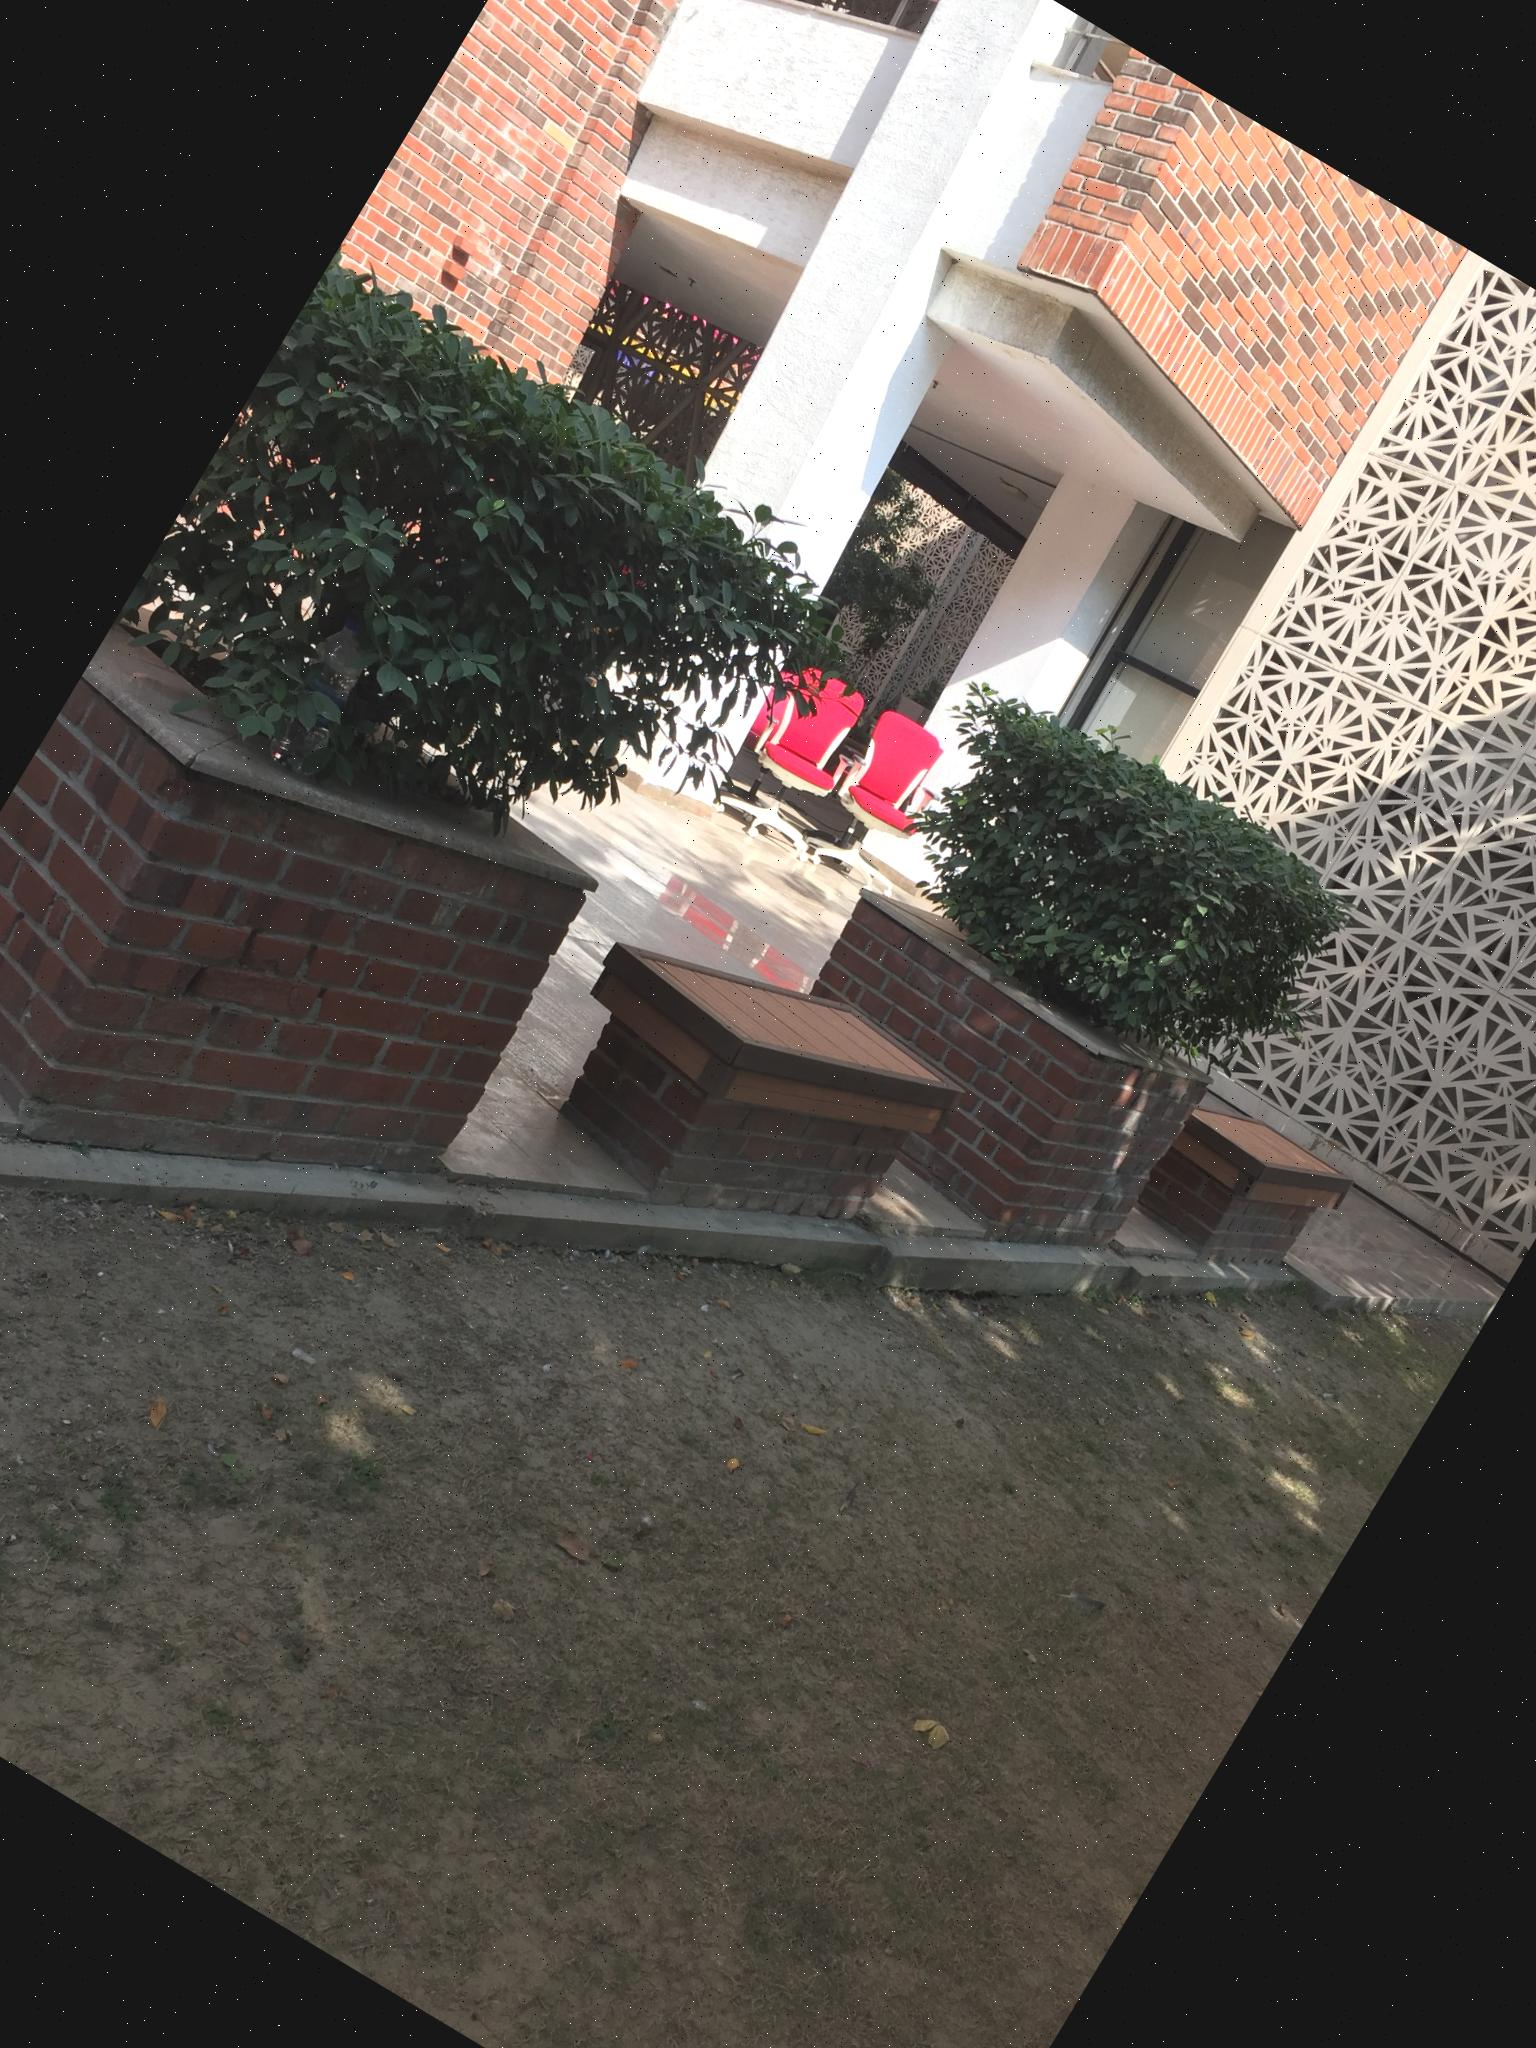chair: (708, 655, 889, 863), (797, 703, 965, 895)
